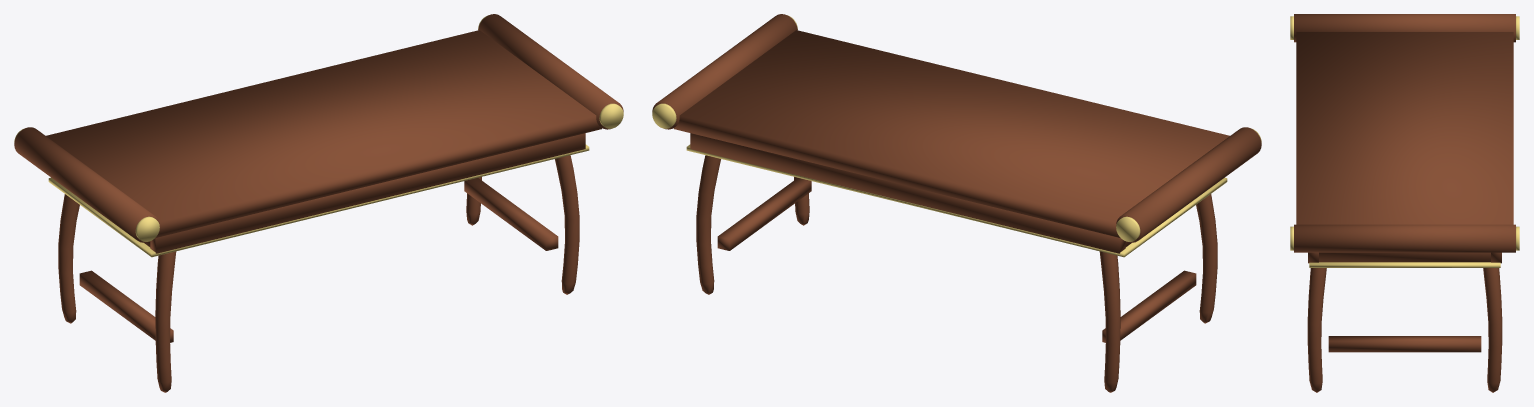
Rendered from an_thu.glb.
3 views of the same model, side by side, from view 1: azimuth 30°, elevation 25°; view 2: azimuth 150°, elevation 25°; view 3: azimuth 270°, elevation 25° (orthographic). The views are drawn at different scales.
Parts seen in each view (by area): view 1: Cube; view 2: Cube; view 3: Cube.
Part boxes in pixels (left/top/right/bottom): Cube: left=14, top=14, right=623, bottom=392; Cube: left=652, top=14, right=1261, bottom=392; Cube: left=1290, top=14, right=1519, bottom=392.
Bounding box in the file's own units: 2.4 × 0.9112 × 1.05.
